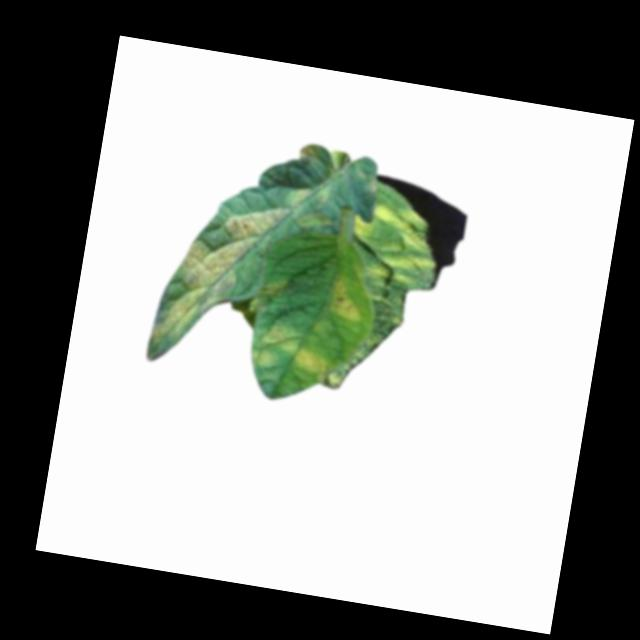Leaf_Mold: (149, 188, 288, 360), (343, 200, 439, 289), (247, 315, 334, 380), (324, 277, 369, 326), (297, 142, 319, 166)
